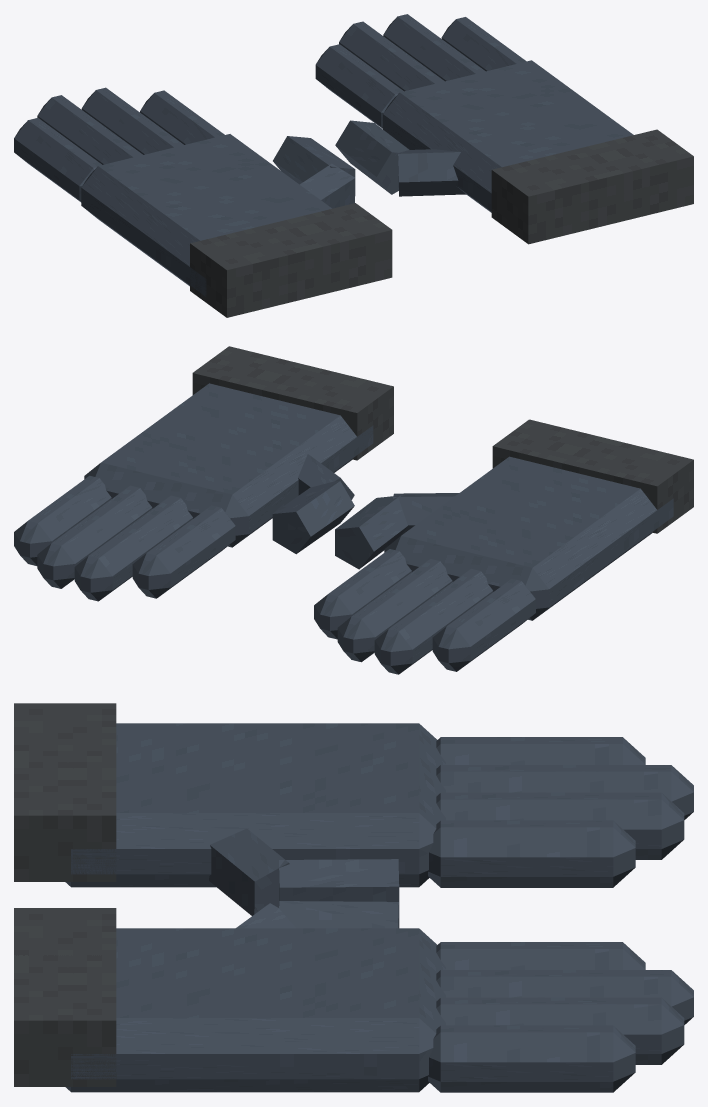
File: wetsuit_gloves_thick.glb
3 renders of one model, top to bottom at view 1: azimuth 30°, elevation 25°; view 2: azimuth 150°, elevation 25°; view 3: azimuth 270°, elevation 25°, orthographic. The views are drawn at different scales.
Parts seen in each view (by area): view 1: block_glove palm (×2), block_adjustable cuff (×2), block_glove finger (×8), block_glove thumb 1 (×2), block_glove thumb 0 (×2); view 2: block_glove palm (×2), block_glove finger (×8), block_adjustable cuff (×2), block_glove thumb 1 (×2), block_glove thumb 0 (×2); view 3: block_glove palm (×2), block_glove finger (×8), block_adjustable cuff (×2), block_glove thumb 1 (×2), block_glove thumb 0 (×2).
Part boxes in pixels (bbox=[...]): block_glove palm (×2): bbox=[81, 60, 633, 296]; block_adjustable cuff (×2): bbox=[190, 129, 693, 317]; block_glove finger (×8): bbox=[14, 14, 526, 202]; block_glove thumb 1 (×2): bbox=[273, 120, 409, 194]; block_glove thumb 0 (×2): bbox=[300, 149, 466, 208]; block_glove palm (×2): bbox=[84, 383, 673, 620]; block_glove finger (×8): bbox=[14, 475, 535, 674]; block_adjustable cuff (×2): bbox=[192, 346, 693, 533]; block_glove thumb 1 (×2): bbox=[272, 481, 407, 569]; block_glove thumb 0 (×2): bbox=[298, 454, 458, 535]; block_glove palm (×2): bbox=[65, 723, 445, 1092]; block_glove finger (×8): bbox=[428, 737, 693, 1092]; block_adjustable cuff (×2): bbox=[14, 703, 116, 1086]; block_glove thumb 1 (×2): bbox=[279, 859, 399, 928]; block_glove thumb 0 (×2): bbox=[209, 828, 295, 928].
Bounding box in the file's own units: 0.246 × 0.0299 × 0.2223.
1 material, 1 textured.
